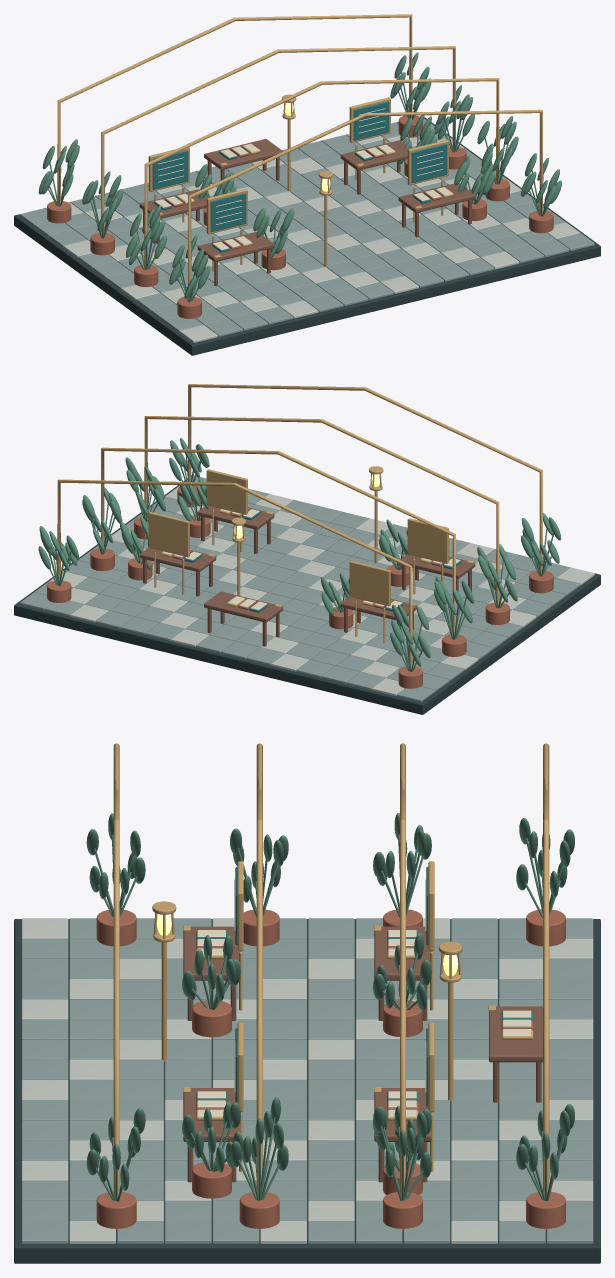
Rendered from factors.glb.
The picture shows the model from 3 angles, top to bottom: view 1: azimuth 30°, elevation 25°; view 2: azimuth 150°, elevation 25°; view 3: azimuth 270°, elevation 25°; orthographic projection. The views are drawn at different scales.
Parts seen in each view (by area): view 1: Static_2_Salt limestone.003, Static_1_Carved pale stone.003, Static_4_Botanical green.003, Static_5_Aged brass.004, Static_0_Ink iron.003, Static_6_Walnut.003, Static_7_Enamel teal.004, Static_3_Oxide leather.004, Static_8_Archive paper.003; view 2: Static_2_Salt limestone.003, Static_5_Aged brass.004, Static_1_Carved pale stone.003, Static_4_Botanical green.003, Static_0_Ink iron.003, Static_6_Walnut.003, Static_3_Oxide leather.004, Static_8_Archive paper.003; view 3: Static_2_Salt limestone.003, Static_1_Carved pale stone.003, Static_4_Botanical green.003, Static_0_Ink iron.003, Static_5_Aged brass.004, Static_3_Oxide leather.004, Static_6_Walnut.003, Static_8_Archive paper.003, Static_7_Enamel teal.004.
Part boxes in pixels (x1,y1,x2,y2): Static_2_Salt limestone.003: (20, 116, 594, 336); Static_1_Carved pale stone.003: (45, 133, 579, 342); Static_4_Botanical green.003: (38, 52, 561, 302); Static_5_Aged brass.004: (57, 14, 542, 301); Static_0_Ink iron.003: (14, 117, 600, 355); Static_6_Walnut.003: (139, 139, 475, 286); Static_7_Enamel teal.004: (152, 101, 447, 252); Static_3_Oxide leather.004: (47, 115, 553, 318); Static_8_Archive paper.003: (155, 108, 452, 249); Static_2_Salt limestone.003: (20, 475, 580, 702); Static_5_Aged brass.004: (57, 384, 542, 671); Static_1_Carved pale stone.003: (49, 486, 594, 695); Static_4_Botanical green.003: (38, 438, 561, 671); Static_0_Ink iron.003: (14, 475, 600, 714); Static_6_Walnut.003: (139, 505, 475, 646); Static_3_Oxide leather.004: (47, 485, 553, 688); Static_8_Archive paper.003: (162, 509, 460, 609); Static_2_Salt limestone.003: (21, 918, 593, 1243); Static_1_Carved pale stone.003: (21, 918, 593, 1243); Static_4_Botanical green.003: (86, 813, 574, 1201); Static_0_Ink iron.003: (14, 919, 600, 1263); Static_5_Aged brass.004: (113, 743, 549, 1200); Static_3_Oxide leather.004: (96, 909, 565, 1231); Static_6_Walnut.003: (183, 926, 542, 1182); Static_8_Archive paper.003: (197, 879, 531, 1116); Static_7_Enamel teal.004: (196, 866, 533, 1106).
Bounding box in the file's own units: 16.3 × 6.48 × 12.3.
